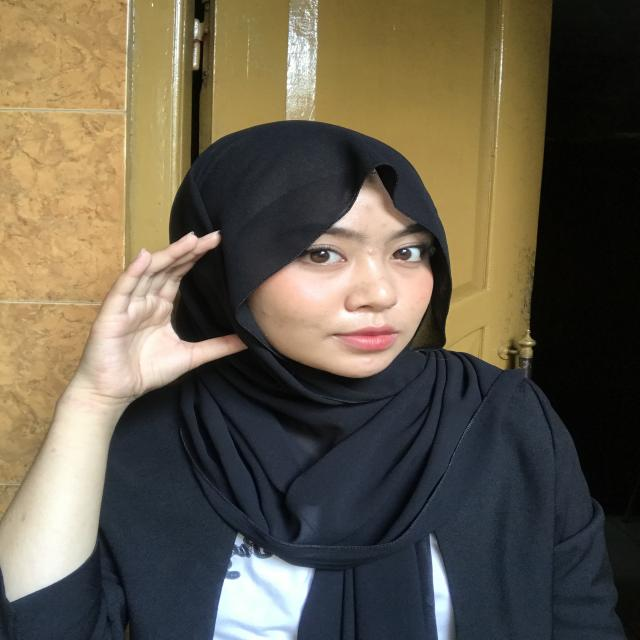mendengar: (85, 228, 254, 404)
